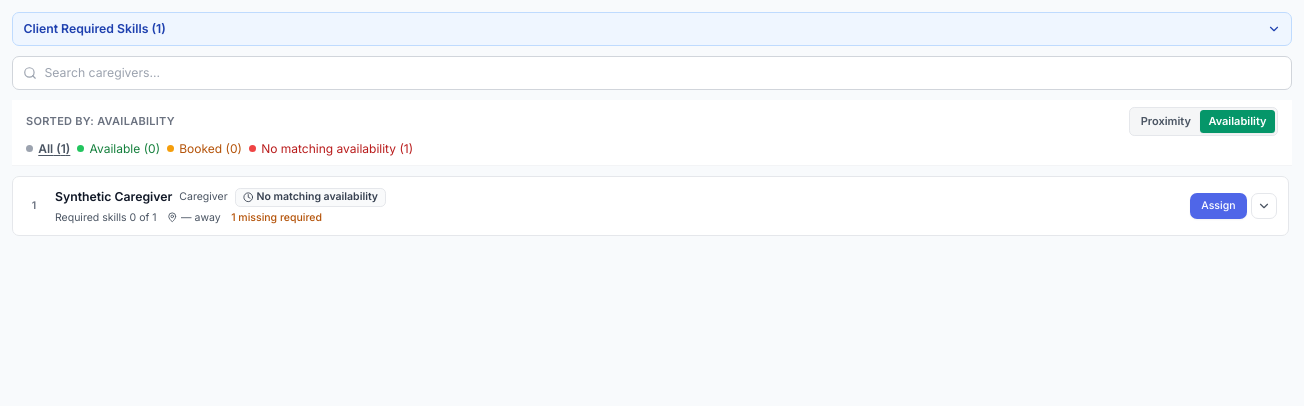
Test: direct caregiver assignment › modal keeps requirements and scoring collapsed while showing accurate row status
Expected: the text "Overall Score" is not shown
Expected: the text "No matching availability" is shown, left=235, top=188, right=386, bottom=207
Click the button named "Show details for Synthetic Caregiver" at point(1264, 206), box left=1250, top=193, right=1277, bottom=219
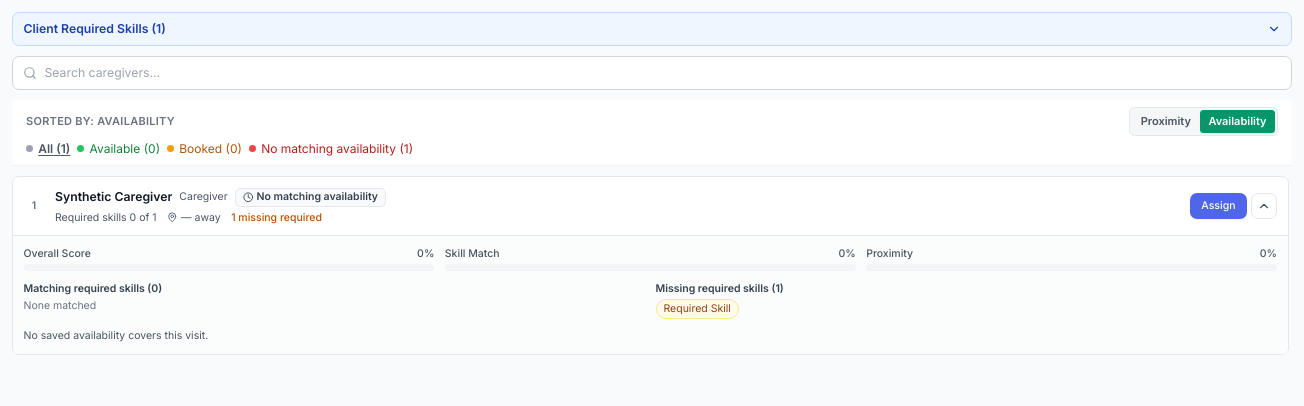
Now the text "Overall Score" is shown, box left=24, top=246, right=91, bottom=260
Now the text "Missing required skills (1)" is shown, box left=656, top=282, right=784, bottom=294
Now the text "Required Skill" is shown, box left=656, top=299, right=739, bottom=318
Click the button "Client Required Skills (1)" at point(90, 28), box left=13, top=13, right=1291, bottom=44
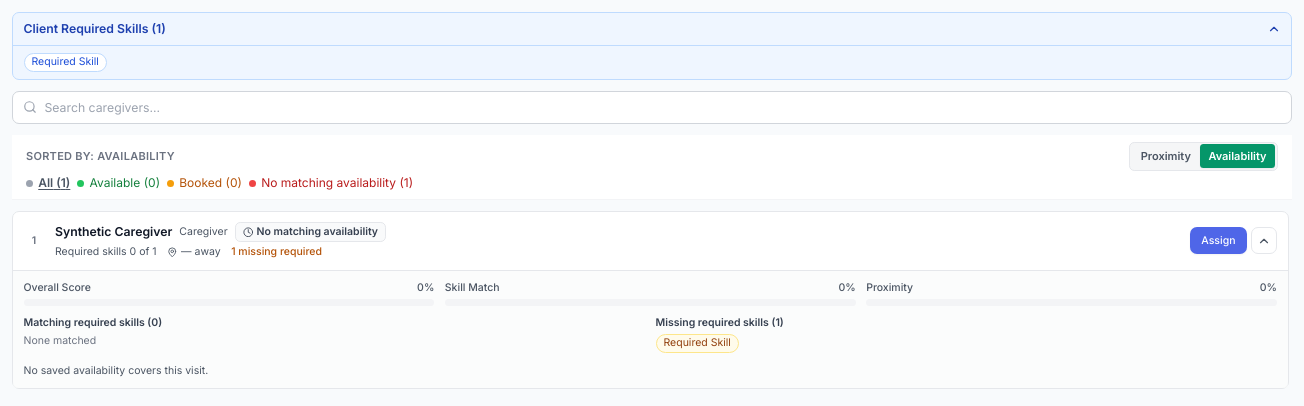
Now the button "Client Required Skills (1)" is expanded, box left=13, top=13, right=1291, bottom=44
